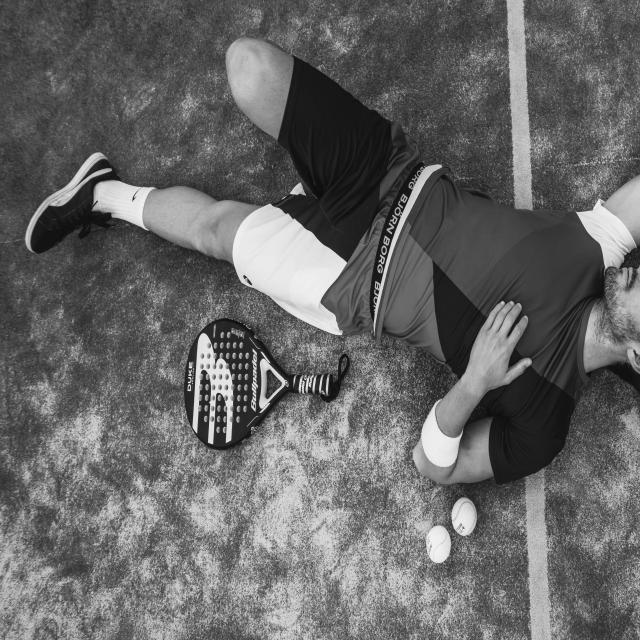lie: (94, 27, 640, 480)
